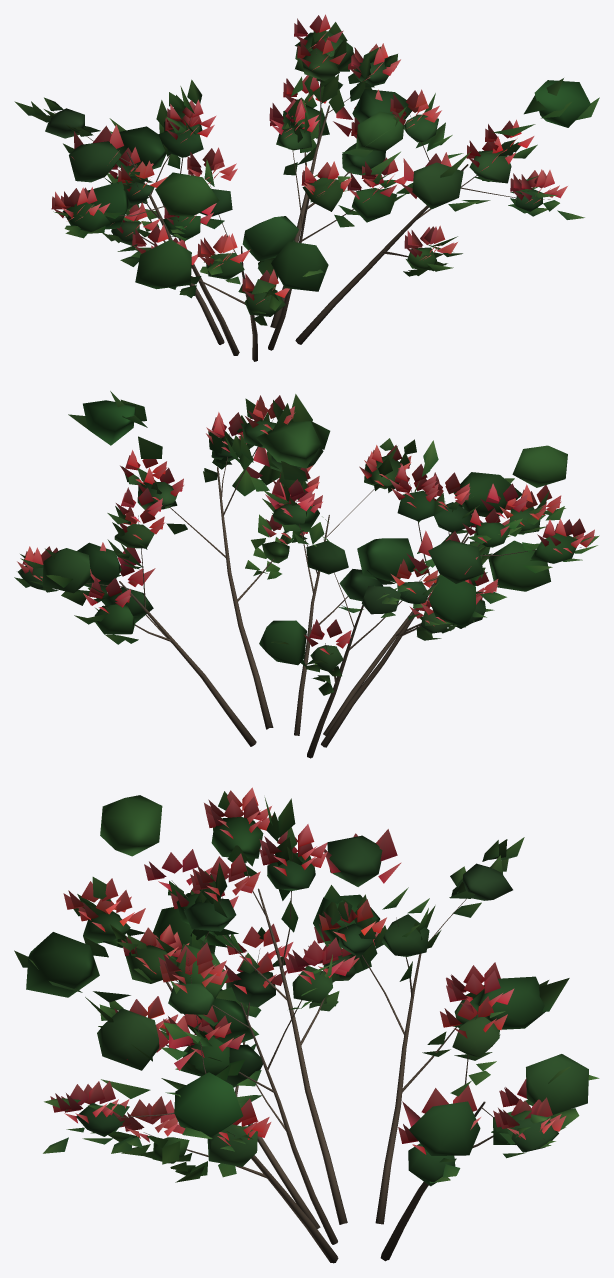
The model's file is hibiscus.glb.
3 views of the same model, one above another, from view 1: azimuth 30°, elevation 25°; view 2: azimuth 150°, elevation 25°; view 3: azimuth 270°, elevation 25° (orthographic). The views are drawn at different scales.
Visible parts, largest first — view 1: hibiscus, hibiscus-lo; view 2: hibiscus, hibiscus-lo; view 3: hibiscus, hibiscus-lo.
Boxes of the visible parts, box(x1,y1,x2,y2) form: hibiscus: box(14, 14, 584, 361); hibiscus-lo: box(69, 22, 599, 361); hibiscus: box(14, 395, 599, 758); hibiscus-lo: box(30, 391, 567, 757); hibiscus: box(43, 787, 566, 1262); hibiscus-lo: box(14, 795, 599, 1263).
Size of the model in its own units: 4.43 by 2.39 by 3.31.
